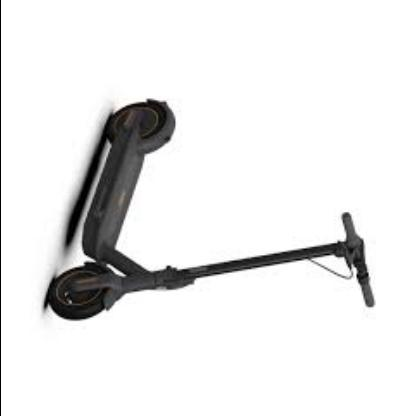bike: (44, 98, 376, 321)
